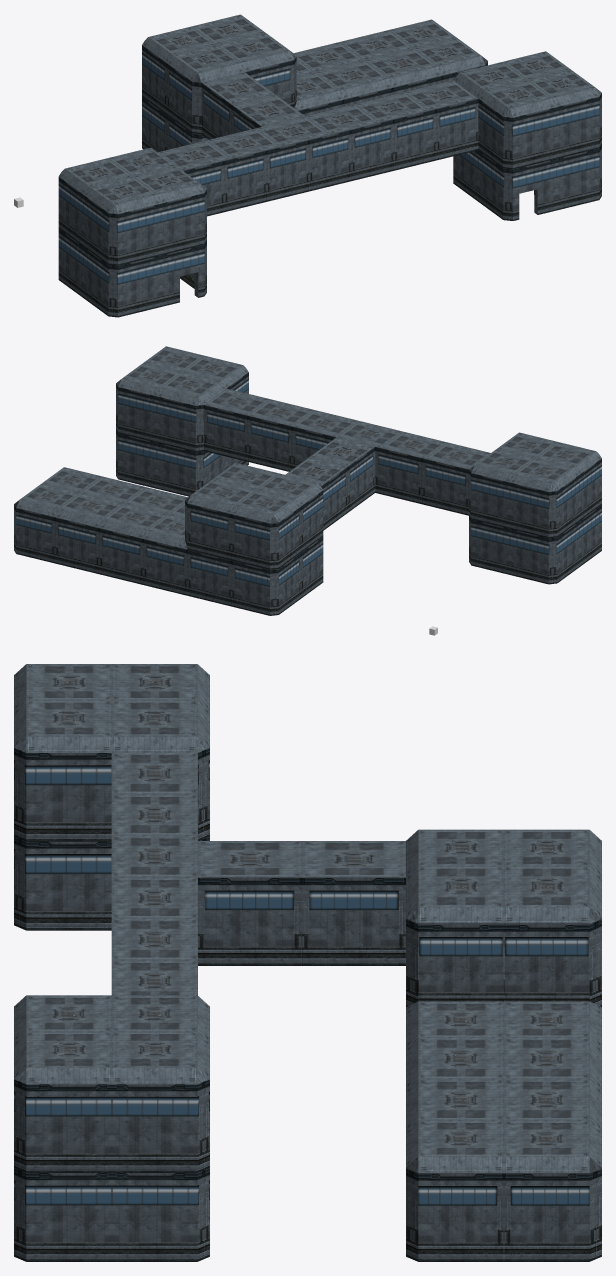
File: pbhall00.FBX
3 views of the same model, one above another, from view 1: azimuth 30°, elevation 25°; view 2: azimuth 150°, elevation 25°; view 3: azimuth 270°, elevation 25° (orthographic). The views are drawn at different scales.
Visible parts, largest first — view 1: obj81, obj74; view 2: obj81, obj74; view 3: obj81, obj74.
Boxes of the visible parts, bbox=[...] form: obj81: bbox=[58, 14, 601, 317]; obj74: bbox=[158, 72, 478, 216]; obj81: bbox=[14, 346, 601, 615]; obj74: bbox=[204, 388, 490, 530]; obj81: bbox=[14, 664, 601, 1261]; obj74: bbox=[111, 753, 405, 995].
Size of what is drawn, in the model's own units: 80 by 48 by 17.5.
